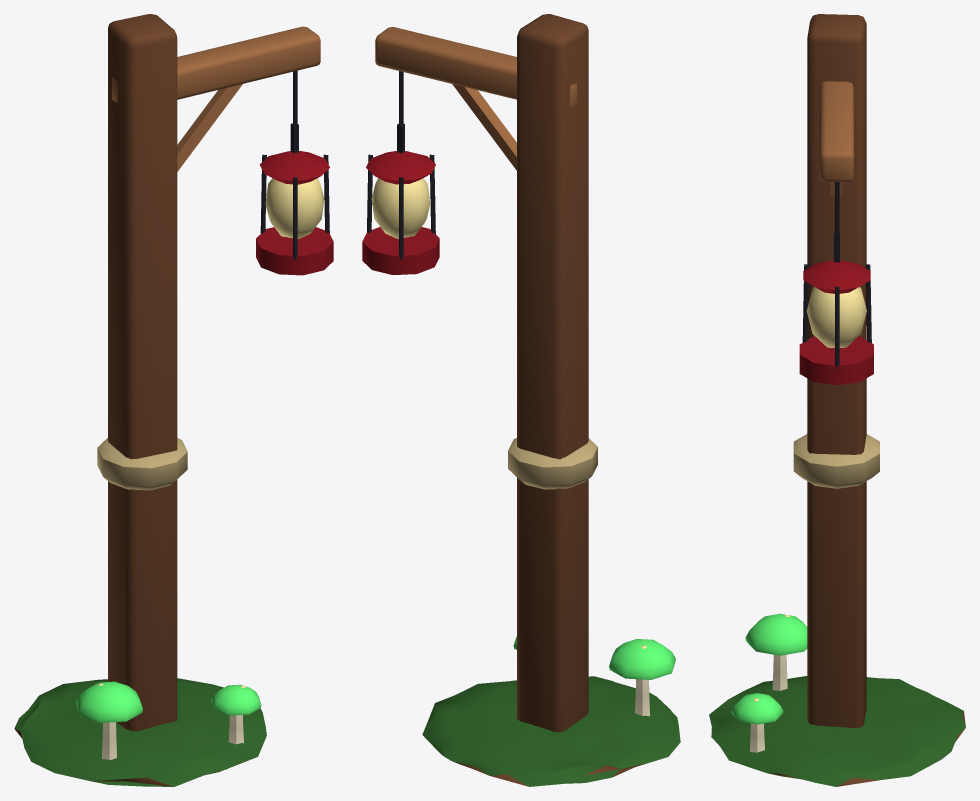
Rendered from SwampLantern.fbx.
The picture shows the model from 3 angles, left to right: view 1: azimuth 30°, elevation 25°; view 2: azimuth 150°, elevation 25°; view 3: azimuth 270°, elevation 25°; orthographic projection.
Visible parts, largest first — view 1: SwampLantern; view 2: SwampLantern; view 3: SwampLantern.
Boxes of the visible parts, box(x1,y1,x2,y2) form: SwampLantern: box(14, 14, 333, 786); SwampLantern: box(362, 14, 680, 786); SwampLantern: box(709, 14, 965, 786).
Size of the model in its own units: 1.22 by 2.75 by 0.9055.
Materials: 2 (2 with a texture image).
